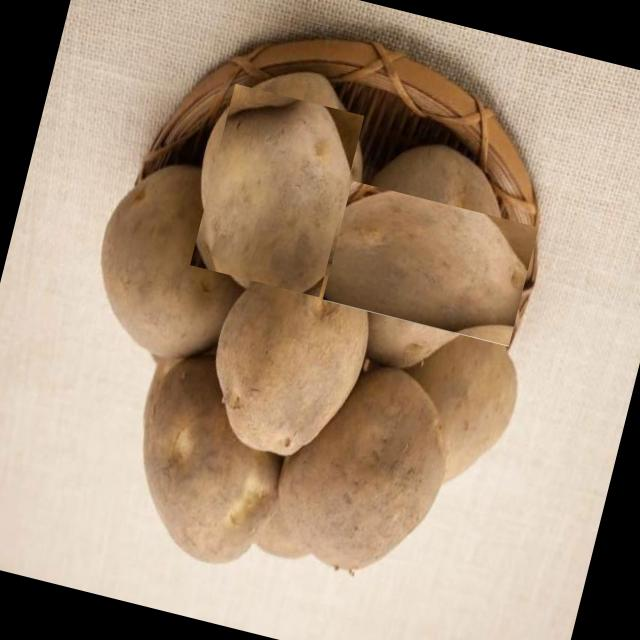potato: (189, 84, 365, 298), (334, 168, 525, 358), (208, 255, 380, 456), (291, 368, 449, 573)
